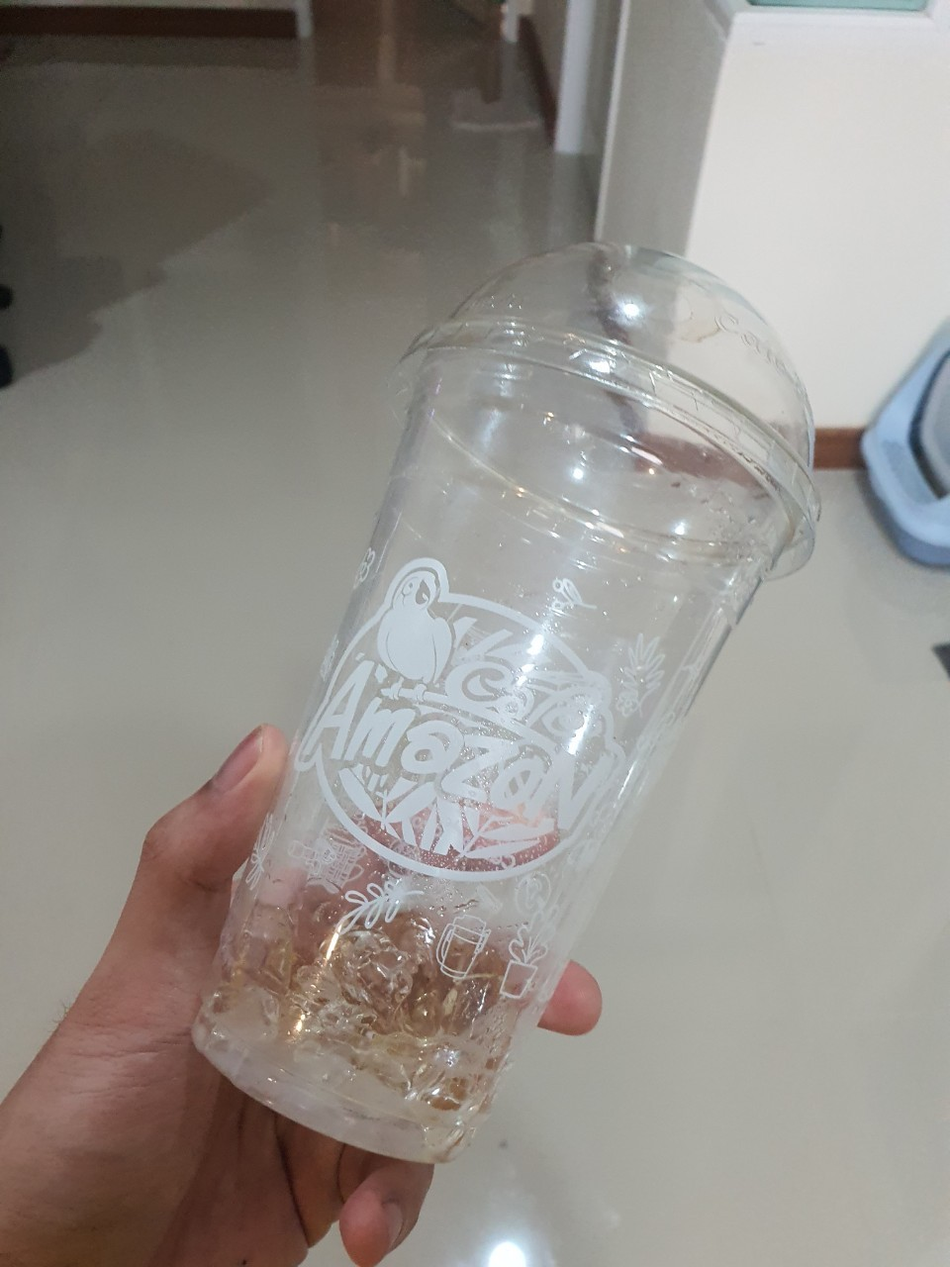plastic: (146, 230, 837, 1190)
